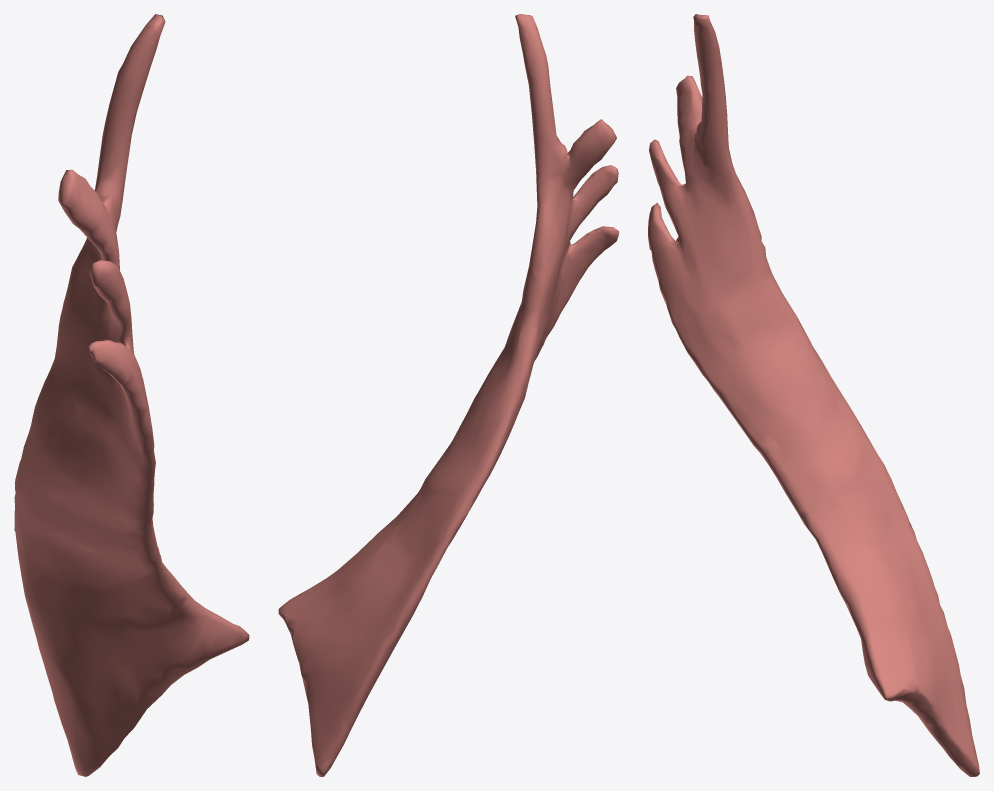
The model's file is fma32541_mm1301.glb.
3 renders of one model, left to right at view 1: azimuth 30°, elevation 25°; view 2: azimuth 150°, elevation 25°; view 3: azimuth 270°, elevation 25°, orthographic. The views are drawn at different scales.
Visible parts, largest first — view 1: FMA32541_MM1301; view 2: FMA32541_MM1301; view 3: FMA32541_MM1301.
Boxes of the visible parts, left/top/right/bottom form: FMA32541_MM1301: left=14, top=14, right=249, bottom=776; FMA32541_MM1301: left=278, top=14, right=619, bottom=776; FMA32541_MM1301: left=648, top=14, right=979, bottom=776.
Size of the model in its own units: 0.0584 by 0.1596 by 0.0663.
